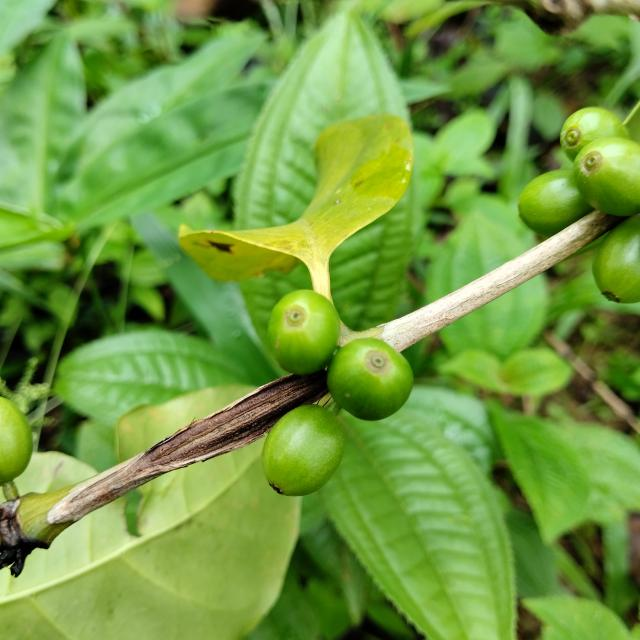green: (262, 405, 345, 497), (327, 338, 414, 421), (268, 290, 341, 375), (574, 137, 640, 216), (519, 169, 594, 237), (594, 215, 640, 303), (561, 106, 630, 160), (0, 397, 32, 486)
